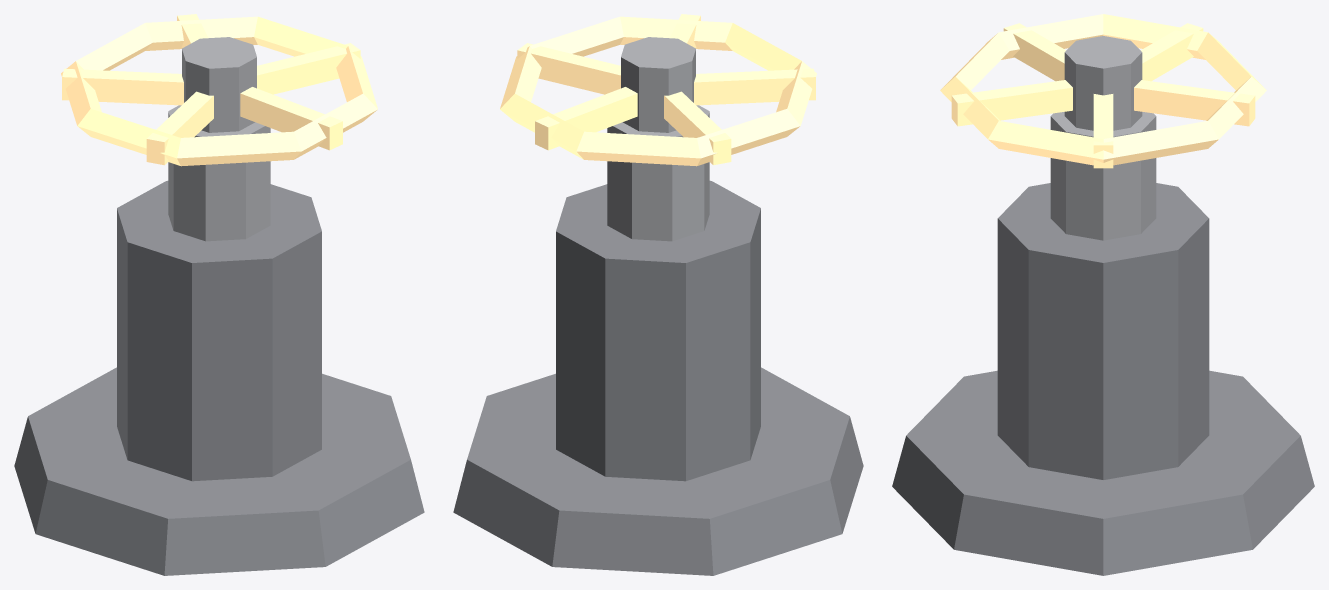
Rendered from 70-Interacciones_valvula_manivela.glb.
3 views of the same model, side by side, from view 1: azimuth 30°, elevation 25°; view 2: azimuth 150°, elevation 25°; view 3: azimuth 270°, elevation 25° (orthographic).
Parts seen in each view (by area): view 1: SM_Valvula_Manivela; view 2: SM_Valvula_Manivela; view 3: SM_Valvula_Manivela.
Part boxes in pixels (<box>): SM_Valvula_Manivela: <box>14,14,424,575</box>; SM_Valvula_Manivela: <box>453,14,863,575</box>; SM_Valvula_Manivela: <box>892,14,1314,575</box>.
Size of the model in its own units: 0.6 by 0.68 by 0.6.
